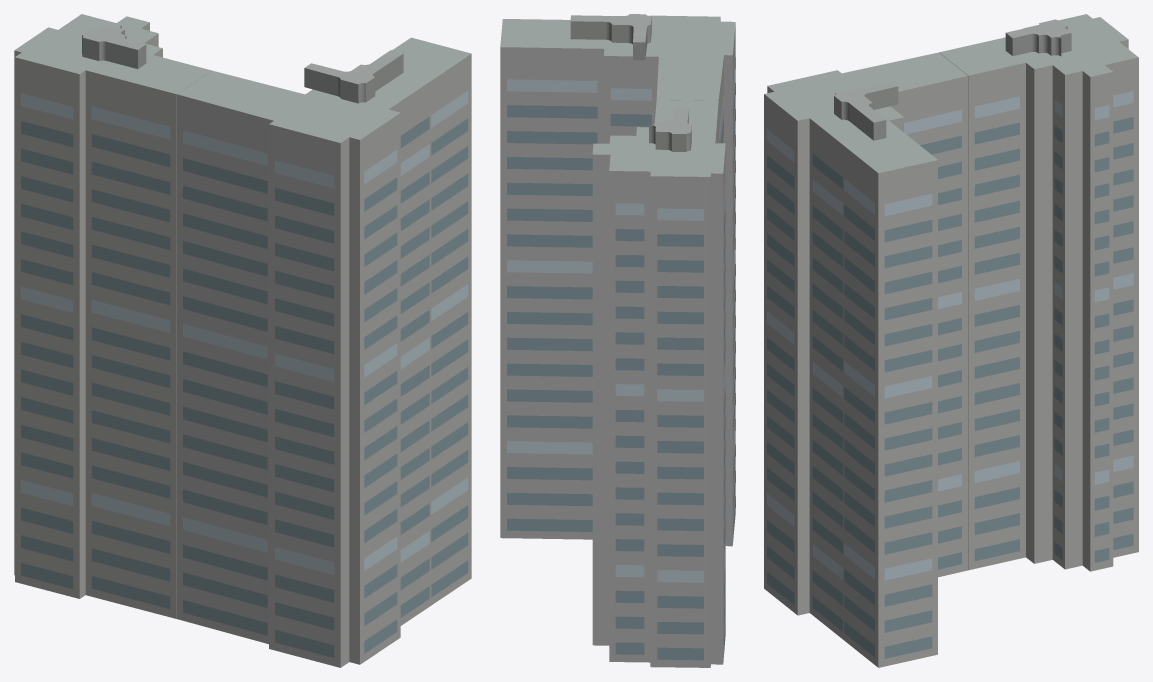
The model's file is fallback-acro-riverpark-108.glb.
3 renders of one model, left to right at view 1: azimuth 30°, elevation 25°; view 2: azimuth 150°, elevation 25°; view 3: azimuth 270°, elevation 25°, orthographic. The views are drawn at different scales.
Parts seen in each view (by area): view 1: fallback-acro-riverpark-108; view 2: fallback-acro-riverpark-108; view 3: fallback-acro-riverpark-108.
Boxes of the visible parts, bbox=[...] form: fallback-acro-riverpark-108: bbox=[14, 14, 471, 667]; fallback-acro-riverpark-108: bbox=[500, 14, 735, 667]; fallback-acro-riverpark-108: bbox=[764, 14, 1138, 667].
Bounding box in the file's own units: 45.3 × 68 × 45.03.
